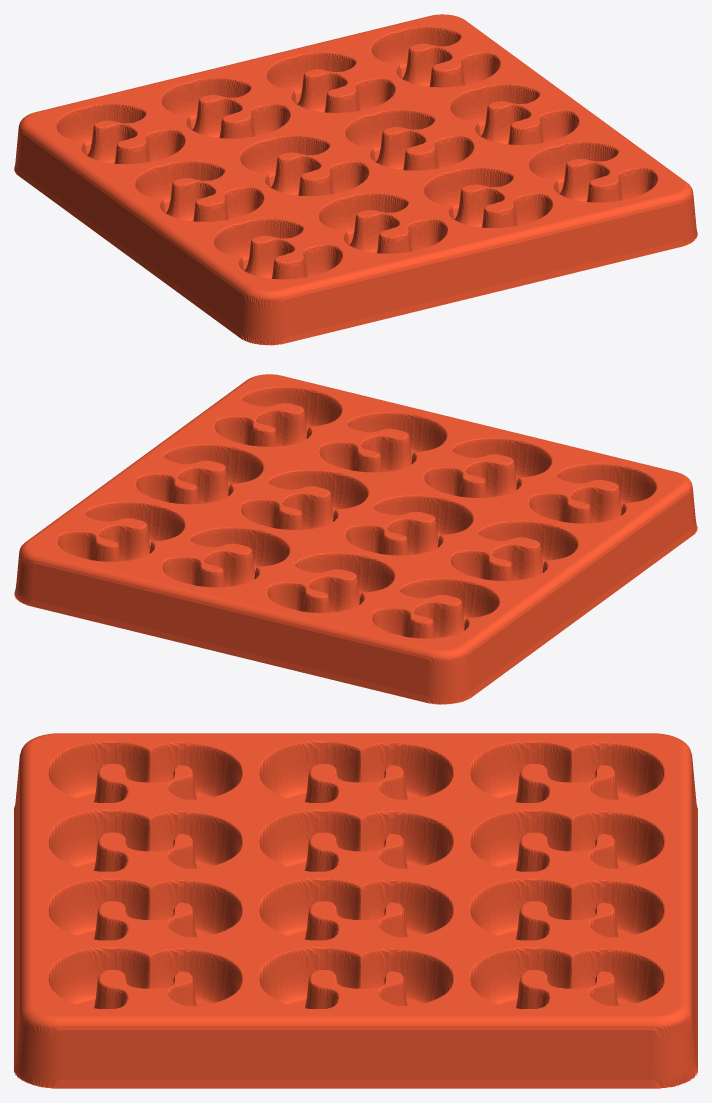
File: mold.glb
3 views of the same model, one above another, from view 1: azimuth 30°, elevation 25°; view 2: azimuth 150°, elevation 25°; view 3: azimuth 270°, elevation 25° (orthographic). The views are drawn at different scales.
Visible parts, largest first — view 1: geometry_0; view 2: geometry_0; view 3: geometry_0.
Boxes of the visible parts, box(x1,y1,x2,y2) form: geometry_0: box(14, 14, 697, 345); geometry_0: box(14, 374, 697, 704); geometry_0: box(14, 733, 697, 1088).
Bounding box in the file's own units: 0.1409 × 0.0145 × 0.1374.
